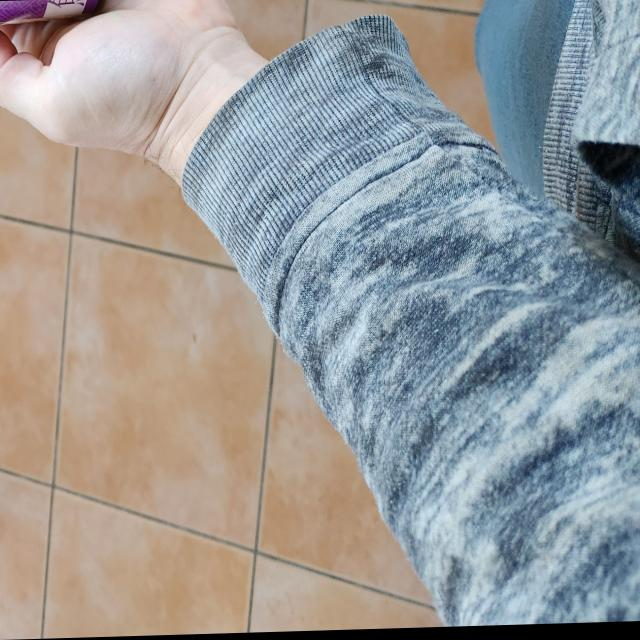hoison sauce: (0, 0, 119, 26)
